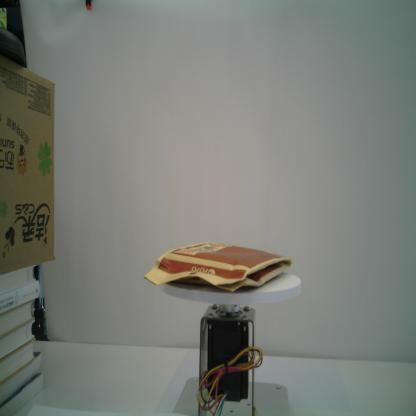Dried Food: (142, 240, 295, 296)
